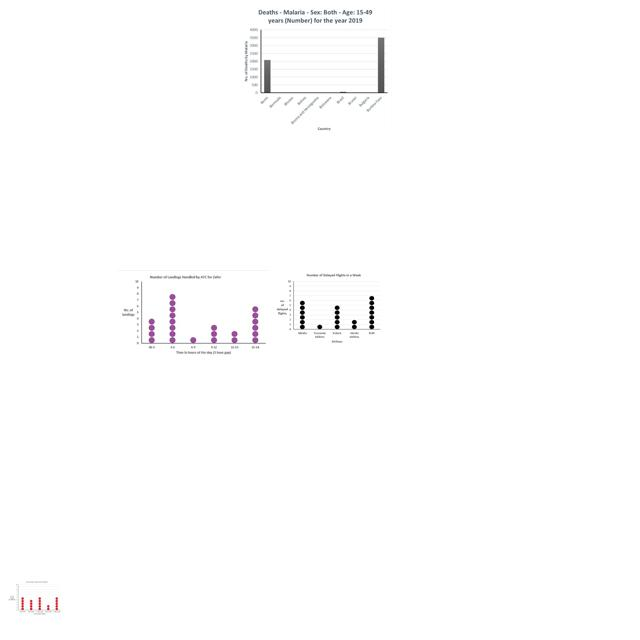Graph: (241, 7, 392, 133), (117, 270, 269, 359), (276, 273, 381, 344), (7, 580, 62, 616)
